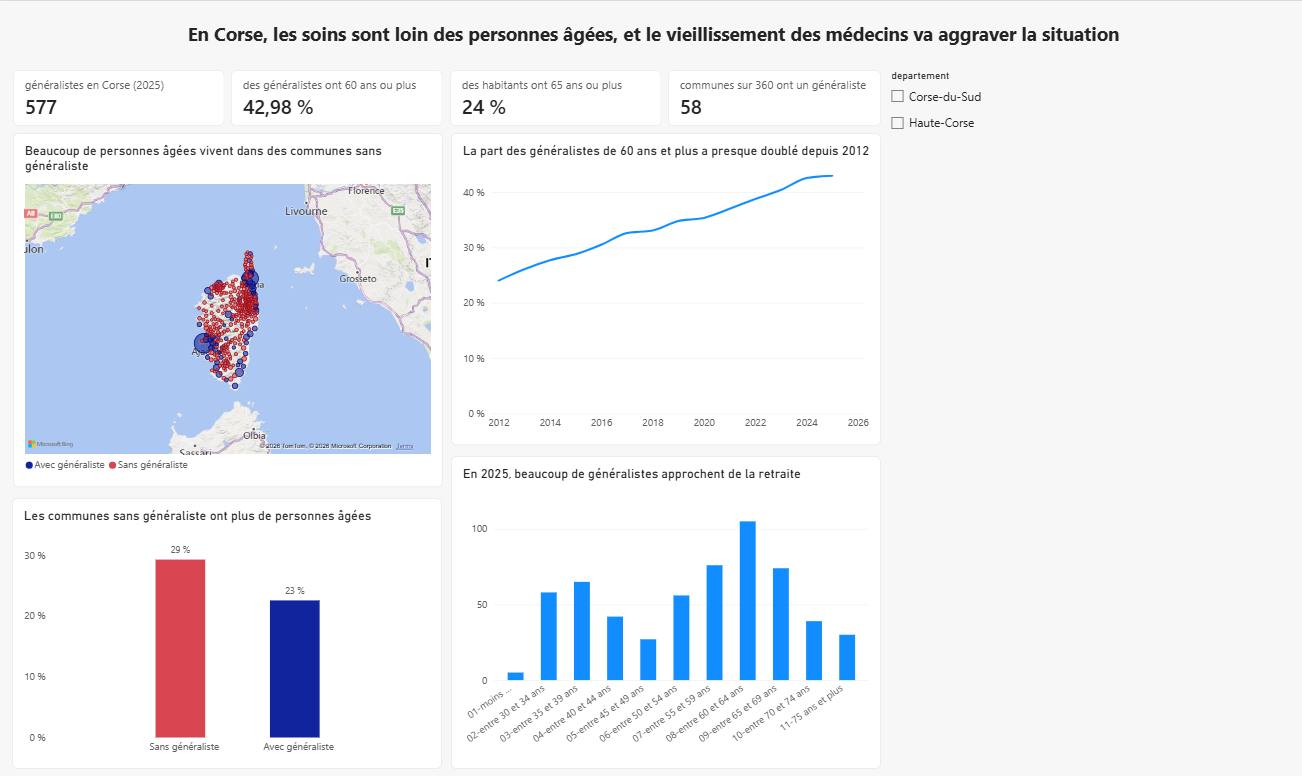

Layout of this report page (visuals, bound fields, positions):
{"tool":"powerbi","page":{"name":"Page 1","canvas":[1920,1080],"ordinal":0},"visuals":[{"type":"lineChart","title":"La part des généralistes de 60 ans et plus a presque doublé depuis 2012","fields":{"Category":["demographie.annee"],"Y":["demographie.% Generalistes 60+"]},"box":[0,61.3,932.3,300.5],"z":0},{"type":"cardVisual","fields":{"Data":["demographie.Generalistes"]},"box":[0,0,236.7,61.1],"z":1000},{"type":"cardVisual","fields":{"Data":["demographie.% Generalistes 60+"]},"box":[236.7,0,311.1,61.1],"z":2000},{"type":"cardVisual","fields":{"Data":["age_par_commune.% Habitants 65+"]},"box":[547.8,0,271.1,61.1],"z":3000},{"type":"cardVisual","title":"communes sur 360 ont un généraliste","fields":{"Data":["professionnels.Communes avec generaliste"]},"box":[818.9,0,310,61.1],"z":4000},{"type":"clusteredColumnChart","title":"En 2025, beaucoup de généralistes approchent de la retraite","fields":{"Category":["demographie.tranche_age"],"Y":["demographie.Generalistes par age"]},"box":[932.3,71.5,809.7,300.5],"z":5000},{"type":"map","title":"Beaucoup de personnes âgées vivent dans des communes sans généraliste","fields":{"Category":["communes.commune"],"Series":["communes.Acces generaliste"],"Size":["Sum(age_par_commune.pop65p)"],"X":["Avg(communes.longitude)"],"Y":["Avg(communes.latitude)"]},"box":[0,361.8,808.3,410],"z":6000},{"type":"clusteredColumnChart","title":"Les communes sans généraliste ont plus de personnes âgées","fields":{"Category":["communes.Acces generaliste"],"Y":["age_par_commune.% Habitants 65+"]},"box":[808.3,361.8,933.7,398.3],"z":6001}]}

Visuals, with their boxes on the page's 1920x1080 design canvas (x1, y1, x2, y2). These are canvas units, not pixel positions in the 1302x776 screenshot, which may show the page scaled, cropped or inside an application window:
"La part des généralistes de 60 ans et plus a presque doublé depuis 2012" lineChart: [0,61,932,362]
cardVisual - demographie.Generalistes: [0,0,237,61]
cardVisual - demographie.% Generalistes 60+: [237,0,548,61]
cardVisual - age_par_commune.% Habitants 65+: [548,0,819,61]
"communes sur 360 ont un généraliste" cardVisual: [819,0,1129,61]
"En 2025, beaucoup de généralistes approchent de la retraite" clusteredColumnChart: [932,72,1742,372]
"Beaucoup de personnes âgées vivent dans des communes sans généraliste" map: [0,362,808,772]
"Les communes sans généraliste ont plus de personnes âgées" clusteredColumnChart: [808,362,1742,760]
